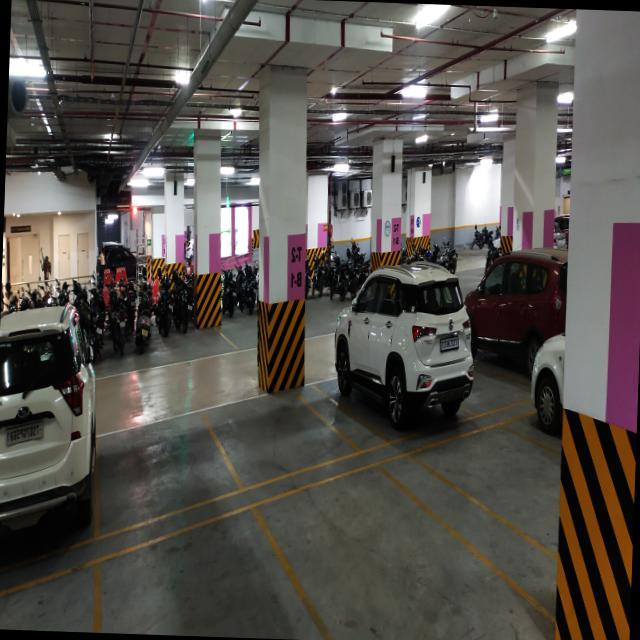car: (364, 280, 464, 428), (0, 402, 86, 544)
free: (106, 503, 288, 639), (310, 503, 483, 640), (108, 404, 203, 547), (469, 429, 556, 536), (238, 382, 312, 489)
